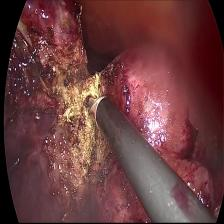Hook: (83, 89, 110, 128)
